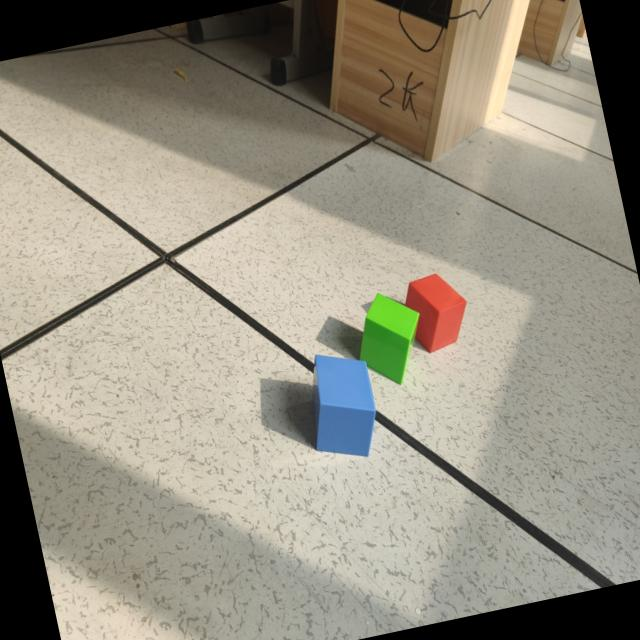blue: (309, 357, 376, 459)
green: (360, 295, 422, 385)
red: (401, 274, 467, 355)
